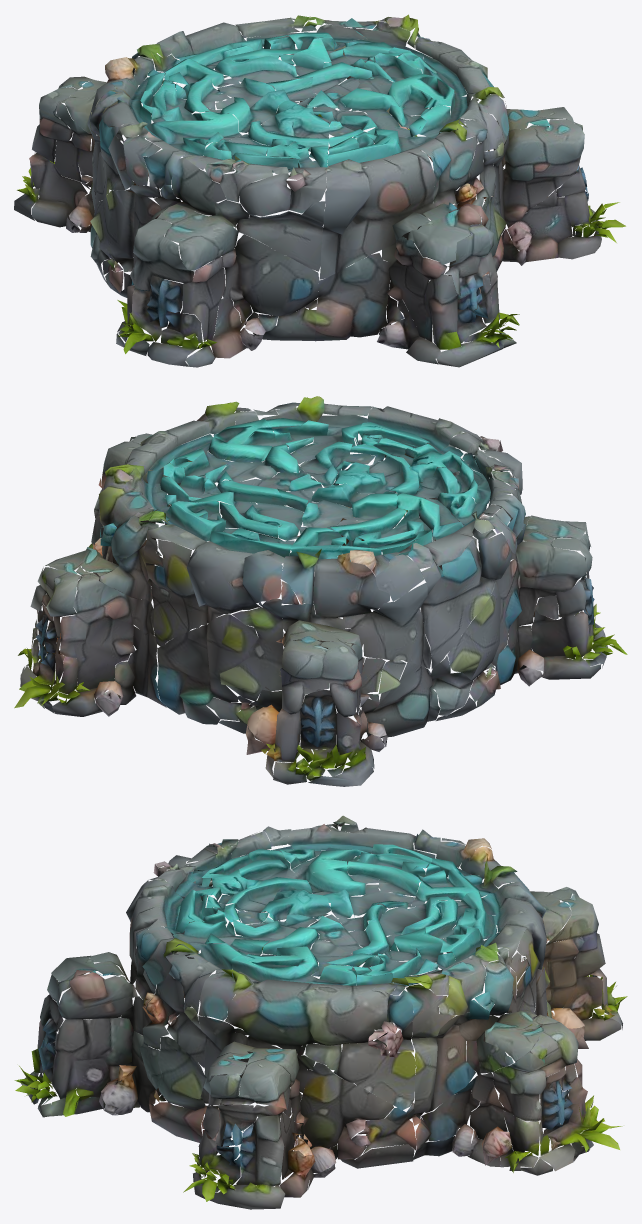
The model's file is anchor-thalor.glb.
3 views of the same model, one above another, from view 1: azimuth 30°, elevation 25°; view 2: azimuth 150°, elevation 25°; view 3: azimuth 270°, elevation 25° (orthographic). The views are drawn at different scales.
Parts seen in each view (by area): view 1: tripo_node_fe4a9efd-5f87-4f5d-8241-df757f3c79f7; view 2: tripo_node_fe4a9efd-5f87-4f5d-8241-df757f3c79f7; view 3: tripo_node_fe4a9efd-5f87-4f5d-8241-df757f3c79f7.
Part boxes in pixels (left/top/right/bottom): tripo_node_fe4a9efd-5f87-4f5d-8241-df757f3c79f7: left=14, top=14, right=625, bottom=367; tripo_node_fe4a9efd-5f87-4f5d-8241-df757f3c79f7: left=14, top=396, right=627, bottom=786; tripo_node_fe4a9efd-5f87-4f5d-8241-df757f3c79f7: left=14, top=815, right=627, bottom=1209.
Size of the model in its own units: 0.9883 by 0.329 by 0.9997.
1 material, 1 textured.
